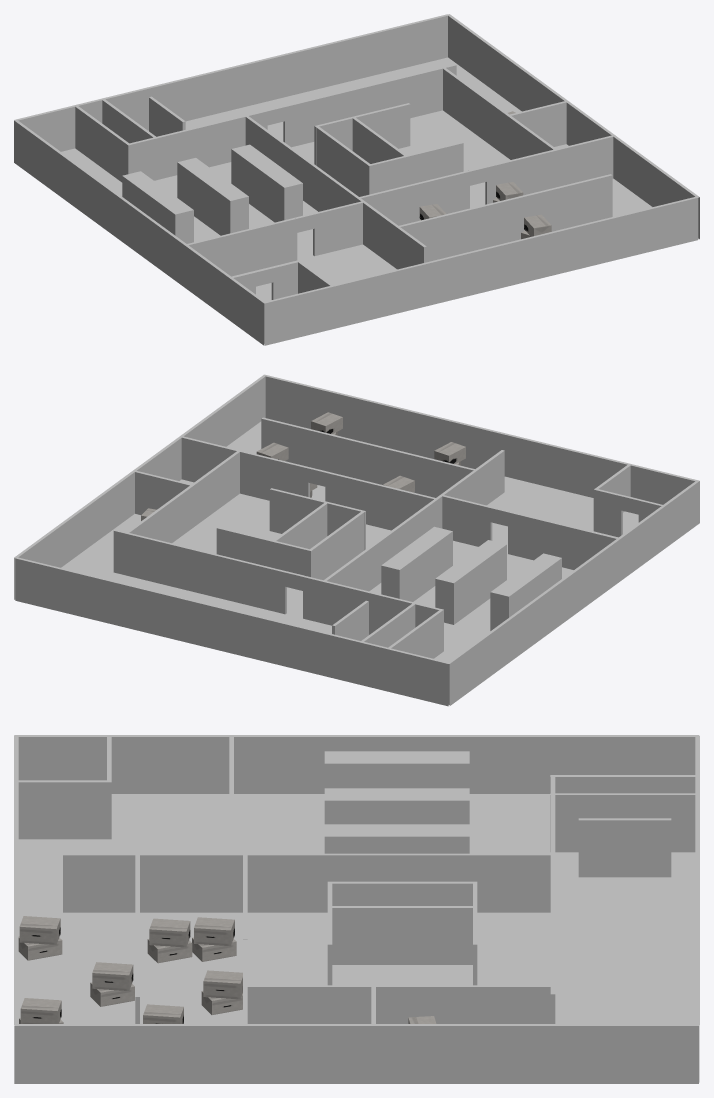
Rendered from Stage.obj.
The picture shows the model from 3 angles, top to bottom: view 1: azimuth 30°, elevation 25°; view 2: azimuth 150°, elevation 25°; view 3: azimuth 270°, elevation 25°; orthographic projection. The views are drawn at different scales.
Visible parts, largest first — view 1: Wall_Big4, Wall_Big3, Floor, Wall_Big1, Wall_Big2, Wall_Temple.005, Wall_Temple.003, Wall_Temple.021, Wall_Temple.019, Wall_Temple.002, Wall_Temple.029, Wall_Temple.016 (+15 smaller); view 2: Wall_Big3, Wall_Big4, Floor, Wall_Big1, Wall_Big2, Wall_Temple.021, Wall_Temple.005, Wall_Temple.003, Wall_Temple.019, Wall_Temple.029, Wall_Temple.027, Wall_Temple.016 (+17 smaller); view 3: Floor, Wall_Big2, Wall_Big1, Wall_Temple.003, Wall_Temple.029, Wall_Temple.012, Wall_Temple.007, Wall_Temple.028, Wall_Temple.027, Wall_Temple.006, Wall_Temple.013, Wall_Temple.026 (+20 smaller).
Part boxes in pixels (box(x1,y1,x2,y2)): Wall_Big4: box(264, 196, 698, 345); Wall_Big3: box(14, 14, 448, 151); Floor: box(61, 57, 698, 301); Wall_Big1: box(14, 119, 266, 345); Wall_Big2: box(447, 14, 699, 239); Wall_Temple.005: box(397, 174, 612, 262); Wall_Temple.003: box(245, 116, 426, 269); Wall_Temple.021: box(283, 64, 456, 147); Wall_Temple.019: box(485, 135, 615, 204); Wall_Temple.002: box(127, 110, 267, 180); Wall_Temple.029: box(443, 68, 555, 159); Wall_Temple.016: box(186, 217, 297, 276); Wall_Big3: box(15, 557, 449, 706); Wall_Big4: box(265, 375, 696, 504); Floor: box(14, 421, 638, 662); Wall_Big1: box(448, 480, 699, 705); Wall_Big2: box(14, 374, 266, 599); Wall_Temple.021: box(113, 529, 286, 614); Wall_Temple.005: box(261, 417, 476, 497); Wall_Temple.003: box(323, 450, 504, 591); Wall_Temple.019: box(180, 436, 309, 500); Wall_Temple.029: box(126, 451, 239, 543); Wall_Temple.027: box(435, 540, 506, 624); Wall_Temple.016: box(508, 511, 619, 569); Floor: box(18, 794, 699, 1082); Wall_Big2: box(14, 1024, 698, 1083); Wall_Big1: box(14, 735, 698, 793); Wall_Temple.003: box(63, 853, 552, 912); Wall_Temple.029: box(247, 985, 550, 1023); Wall_Temple.012: box(332, 906, 472, 964); Wall_Temple.007: box(578, 818, 671, 877); Wall_Temple.028: box(324, 751, 469, 788); Wall_Temple.027: box(324, 788, 469, 824); Wall_Temple.006: box(550, 793, 696, 852); Wall_Temple.013: box(16, 780, 106, 839); Wall_Temple.026: box(324, 824, 469, 853).
Bounding box in the file's own units: 302 × 28.4 × 301.
